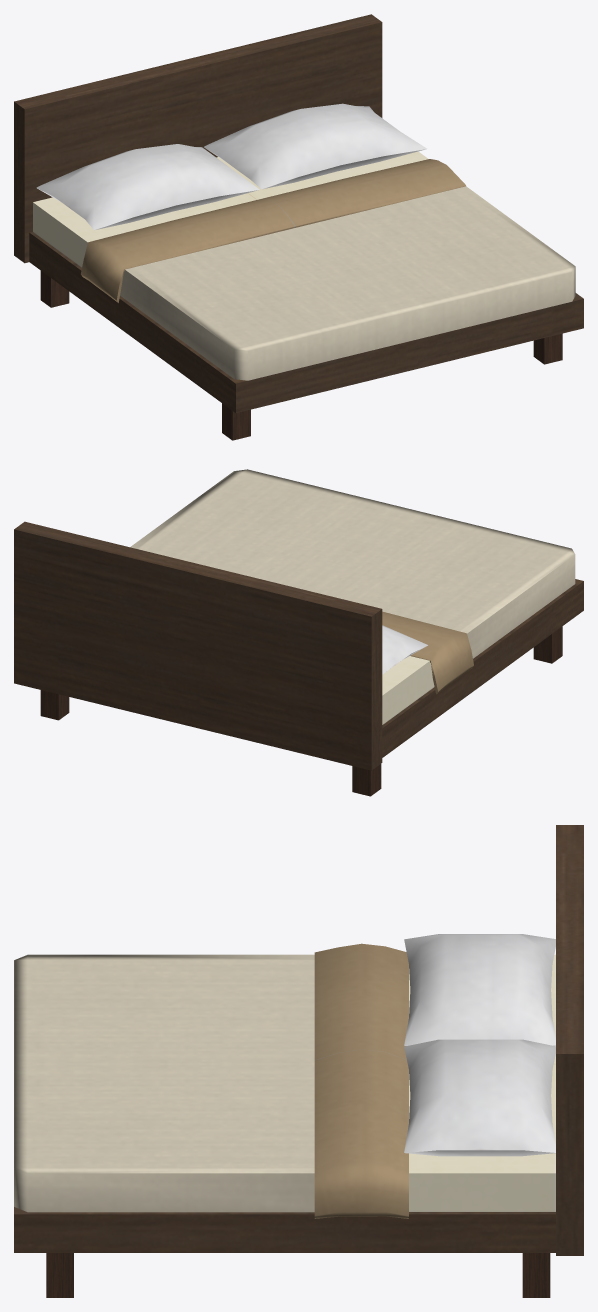
The model's file is Bed_1A.fbx.
The picture shows the model from 3 angles, top to bottom: view 1: azimuth 30°, elevation 25°; view 2: azimuth 150°, elevation 25°; view 3: azimuth 270°, elevation 25°; orthographic projection. The views are drawn at different scales.
Visible parts, largest first — view 1: polySurface1556; view 2: polySurface1556; view 3: polySurface1556.
Boxes of the visible parts, x1=… form: polySurface1556: x1=14, y1=14, x2=583, y2=440; polySurface1556: x1=14, y1=469, x2=583, y2=796; polySurface1556: x1=14, y1=825, x2=583, y2=1297.
Bounding box in the file's own units: 3.84 × 1.96 × 4.
